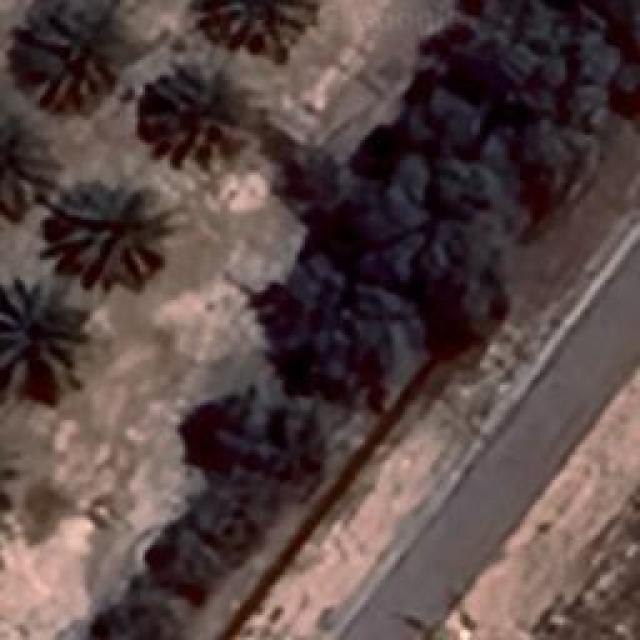PalmTree: (45, 175, 170, 288), (145, 55, 260, 175), (14, 5, 128, 113), (0, 272, 85, 390), (208, 0, 320, 48), (0, 121, 50, 209)
